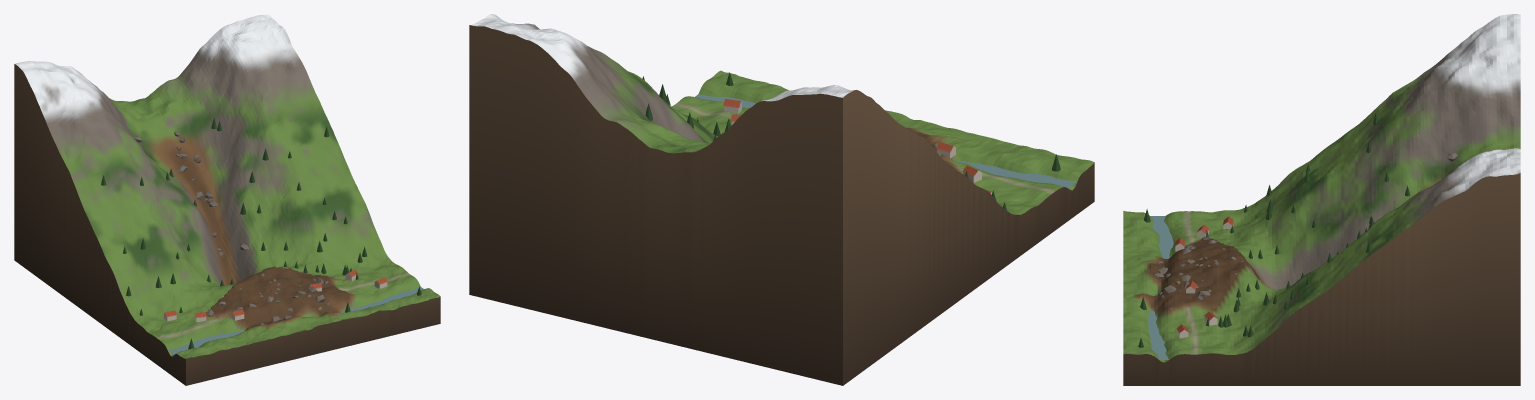
Rendered from mudflow-lod1.glb.
3 views of the same model, side by side, from view 1: azimuth 30°, elevation 25°; view 2: azimuth 150°, elevation 25°; view 3: azimuth 270°, elevation 25° (orthographic). The views are drawn at different scales.
Visible parts, largest first — view 1: terrain, plinth, trees, boulders, water, houses; view 2: plinth, terrain, water, houses, trees; view 3: terrain, plinth, trees, water, boulders, houses.
Boxes of the visible parts, x1,y1,x2,y2 form: terrain: (14,14,440,358); plinth: (14,64,440,385); trees: (101,118,421,349); boulders: (134,131,350,324); water: (168,287,423,354); houses: (164,269,387,321); plinth: (469,25,1094,385); terrain: (470,14,1094,214); water: (695,94,1076,187); houses: (723,99,992,194); trees: (642,72,1060,210); terrain: (1123,14,1520,362); plinth: (1123,173,1520,385); trees: (1138,113,1409,347); water: (1148,216,1173,359); boulders: (1154,152,1457,309); houses: (1174,216,1233,338).
Bounding box in the file's own units: 12 × 8.88 × 14.
